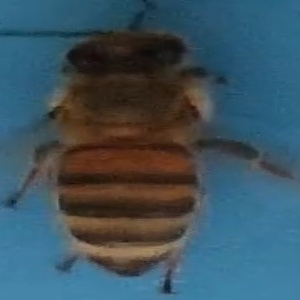bee: (10, 25, 283, 294)
